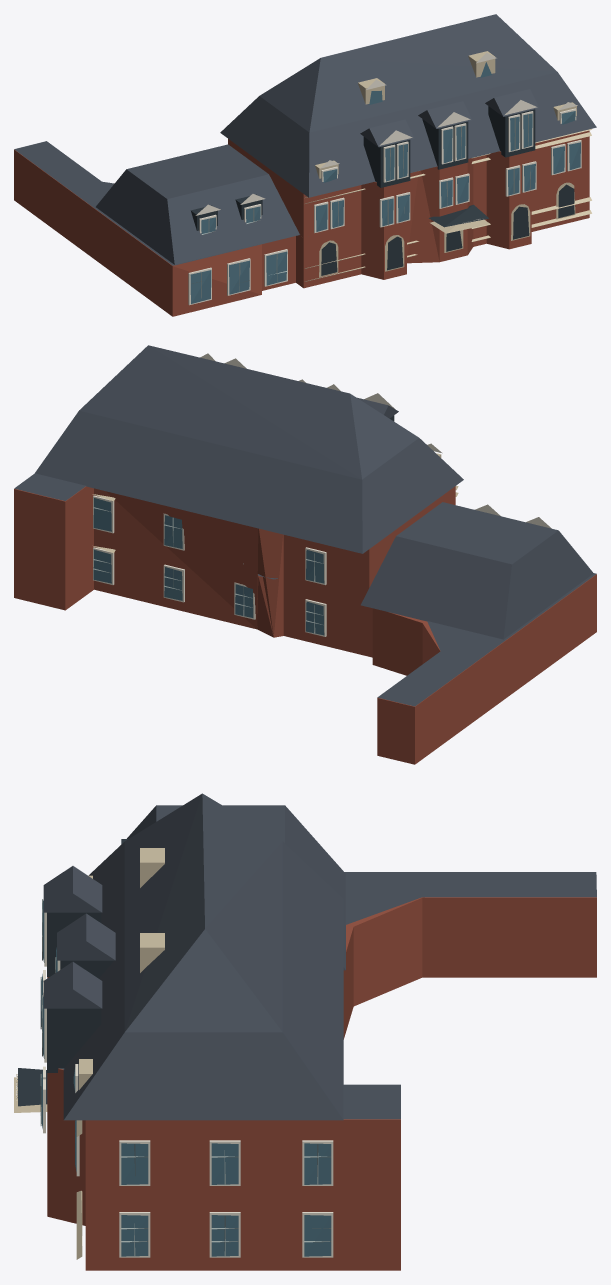
The model's file is haarlemmermeerstation.lod1.glb.
3 renders of one model, top to bottom at view 1: azimuth 30°, elevation 25°; view 2: azimuth 150°, elevation 25°; view 3: azimuth 270°, elevation 25°, orthographic. The views are drawn at different scales.
Visible parts, largest first — view 1: haarlemmermeerstation; view 2: haarlemmermeerstation; view 3: haarlemmermeerstation.
Boxes of the visible parts, bbox=[...] form: haarlemmermeerstation: bbox=[14, 14, 596, 316]; haarlemmermeerstation: bbox=[14, 345, 596, 764]; haarlemmermeerstation: bbox=[14, 793, 596, 1270].
Bounding box in the file's own units: 33.63 × 14.6 × 25.81.
